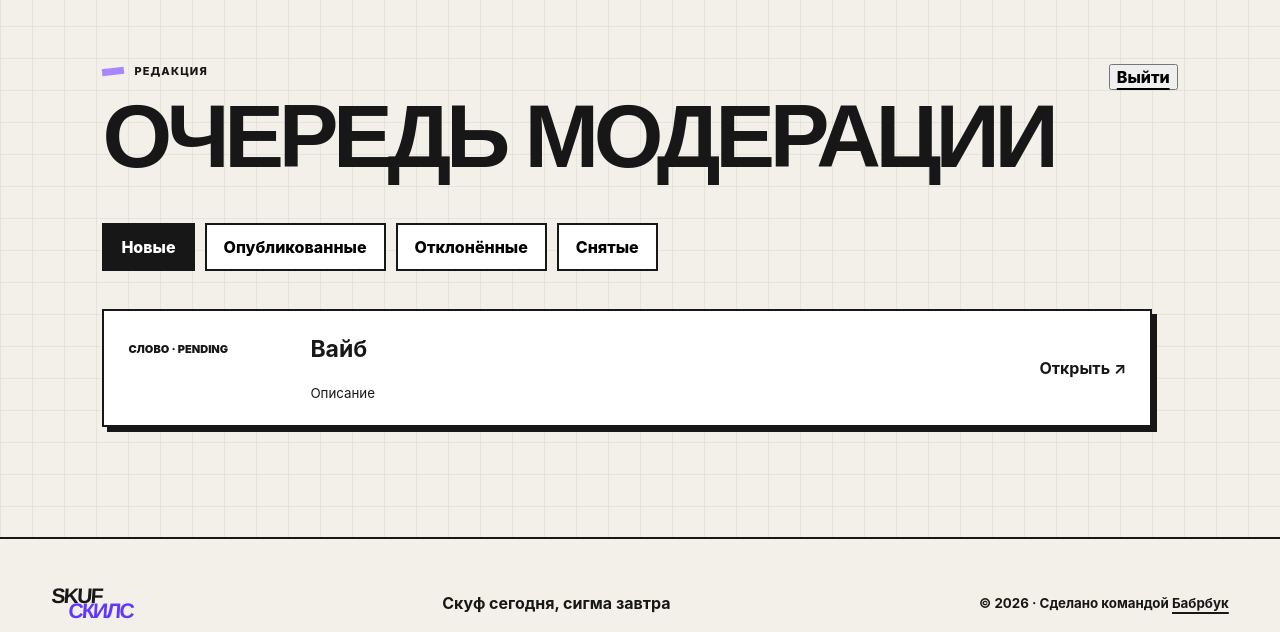
administrator flow › filters the queue and publishes an opened card
Expected: the text "Вайб" is shown, [310,336,367,364]
Click the button "Опубликованные" at [295, 248], box [204,224,386,272]
(page scrolled)
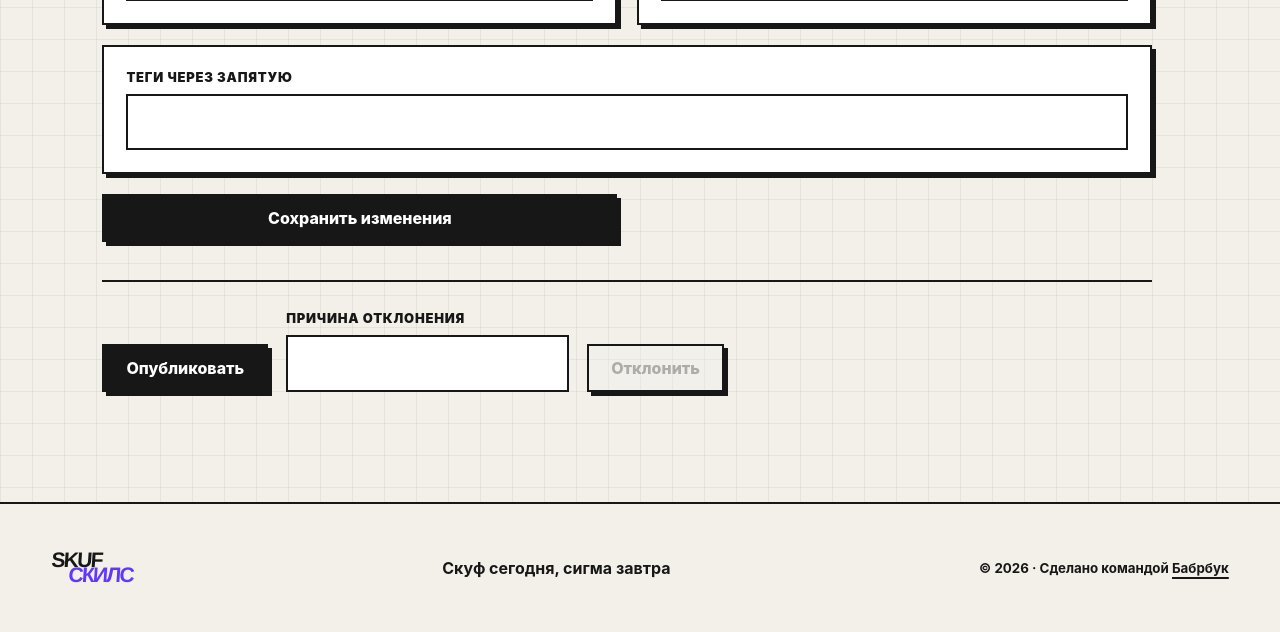
Click the button "Опубликовать" at [185, 368], box [102,344,268,392]
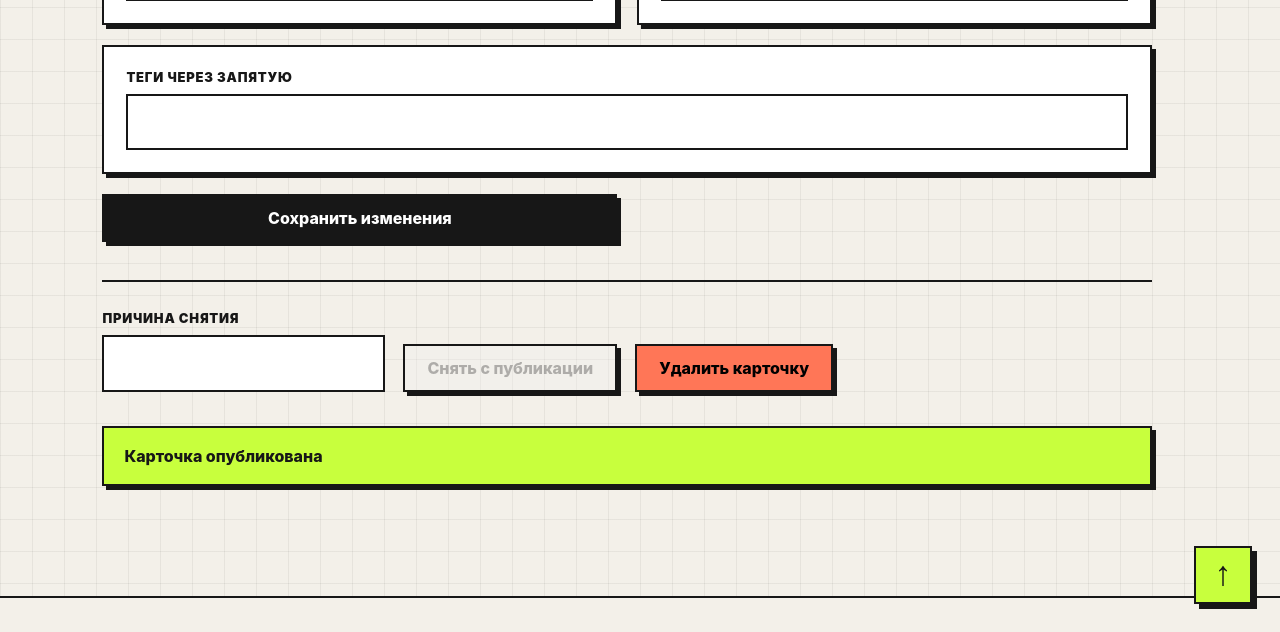
Now the message reads "Карточка опубликована", box [124,446,323,466]
